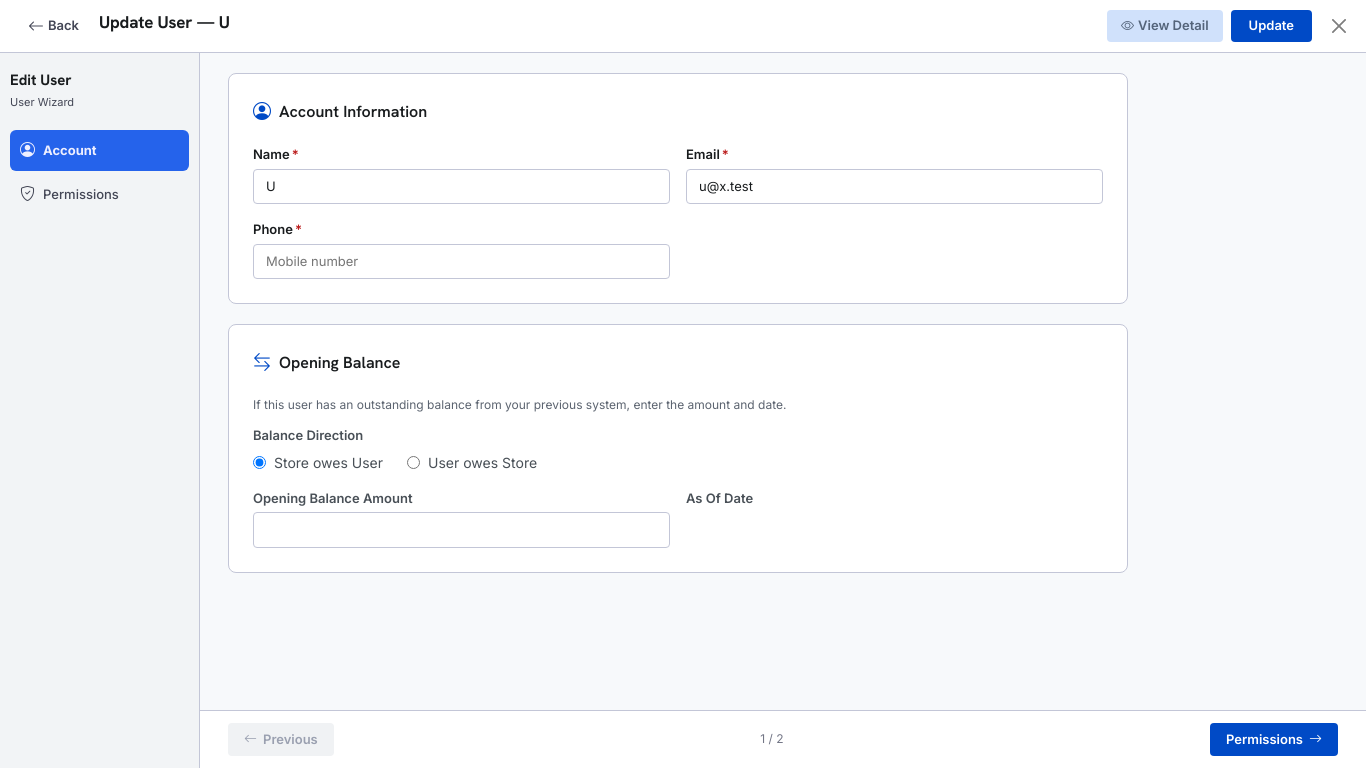
shows the RBAC Roles picker when the store setting enable_rbac_module is on
Click the button "Permissions" below "User Wizard": (100, 195) [10, 174, 189, 215]
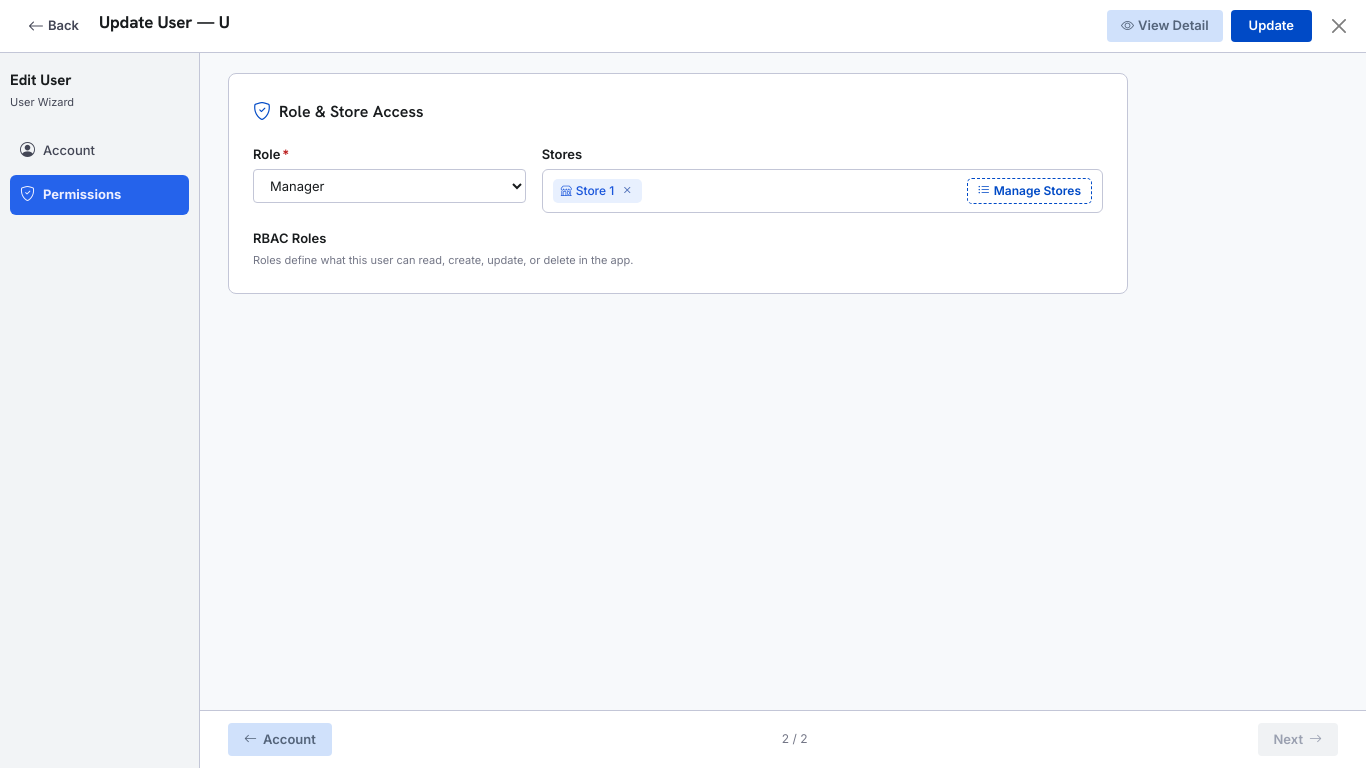
Now the text "RBAC Roles" is shown, box [253, 230, 326, 246]
